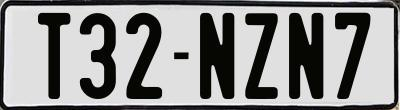2: (124, 11, 163, 101)
3: (79, 13, 121, 105)
7: (335, 13, 371, 103)
N: (198, 11, 237, 102), (288, 10, 323, 100)
T: (36, 12, 69, 100)
Z: (243, 12, 276, 103)
